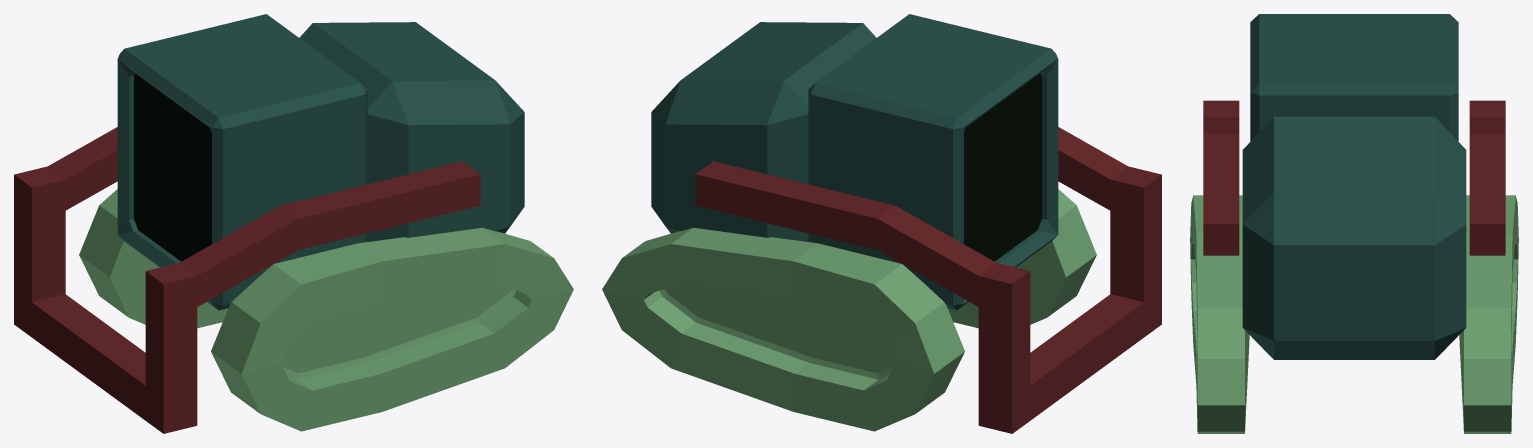
The model's file is Vector_Robo_NLA bake_hovername.glb.
The picture shows the model from 3 angles, left to right: view 1: azimuth 30°, elevation 25°; view 2: azimuth 150°, elevation 25°; view 3: azimuth 270°, elevation 25°; orthographic projection.
Parts seen in each view (by area): view 1: Rollers, Hands, Head, Back, Face Screen; view 2: Rollers, Hands, Head, Back, Face Screen; view 3: Back, Head, Rollers, Hands.
Boxes of the visible parts, x1=… form: Rollers: x1=79, y1=189, x2=573, y2=431; Hands: x1=14, y1=127, x2=480, y2=433; Head: x1=117, y1=14, x2=367, y2=310; Back: x1=299, y1=22, x2=524, y2=241; Face Screen: x1=134, y1=73, x2=211, y2=261; Rollers: x1=602, y1=189, x2=1096, y2=431; Hands: x1=695, y1=127, x2=1161, y2=433; Head: x1=808, y1=14, x2=1058, y2=310; Back: x1=651, y1=22, x2=876, y2=241; Face Screen: x1=964, y1=73, x2=1041, y2=261; Back: x1=1242, y1=116, x2=1466, y2=359; Head: x1=1250, y1=14, x2=1458, y2=141; Rollers: x1=1190, y1=195, x2=1518, y2=433; Hands: x1=1203, y1=100, x2=1505, y2=255.
Bounding box in the file's own units: 1.41 × 1.01 × 0.9754.
